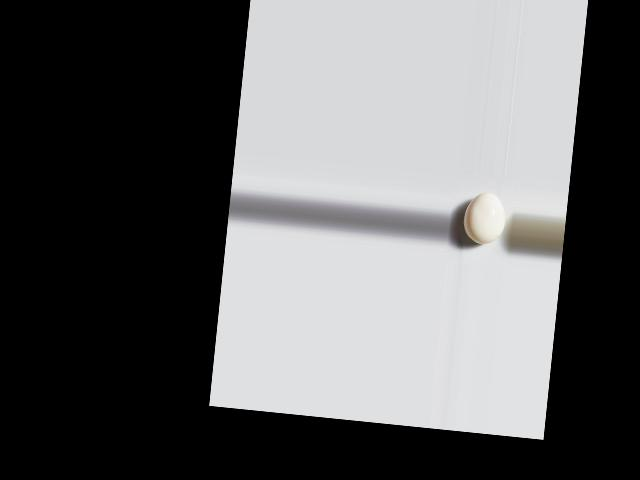egg: (461, 191, 507, 246)
